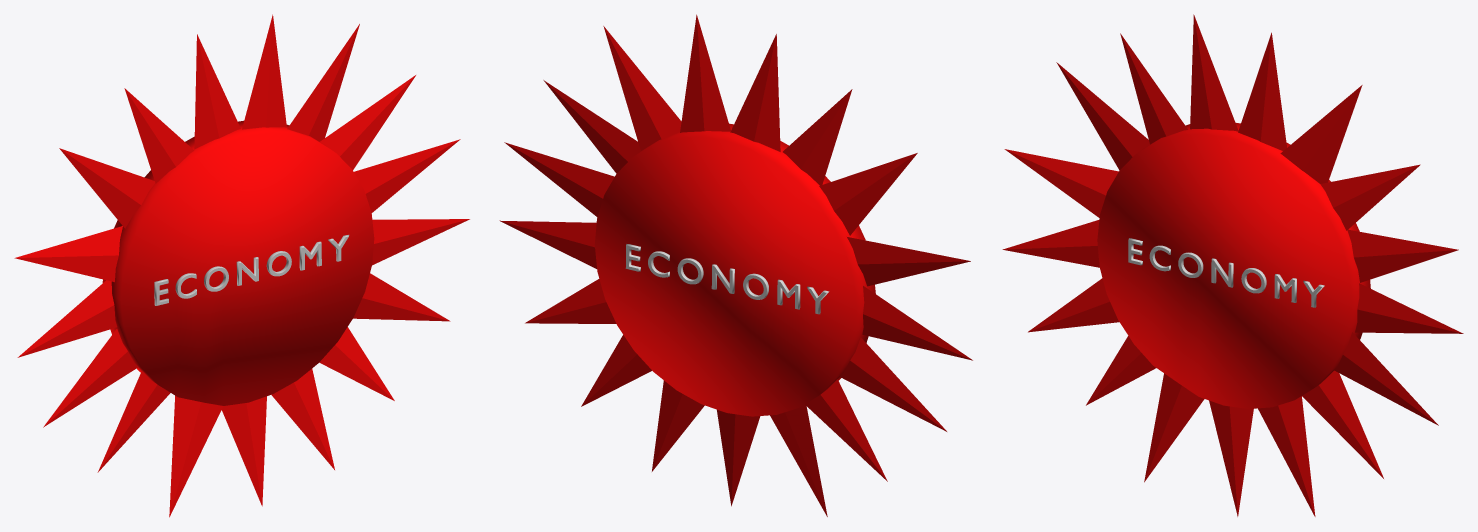
The picture shows the model from 3 angles, left to right: view 1: azimuth 30°, elevation 25°; view 2: azimuth 150°, elevation 25°; view 3: azimuth 330°, elevation 25°; orthographic projection. The views are drawn at different scales.
Visible parts, largest first — view 1: Circle, Efficiency Spark; view 2: Circle, Efficiency Spark.001; view 3: Circle, Efficiency Spark.
Boxes of the visible parts, box(x1,y1,x2,y2) form: Circle: box(14, 14, 469, 517); Efficiency Spark: box(154, 234, 349, 305); Circle: box(499, 14, 972, 516); Efficiency Spark.001: box(625, 244, 829, 314); Circle: box(1002, 14, 1463, 516); Efficiency Spark: box(1128, 238, 1324, 307).
Size of the model in its own units: 15.44 by 15.49 by 1.5.
